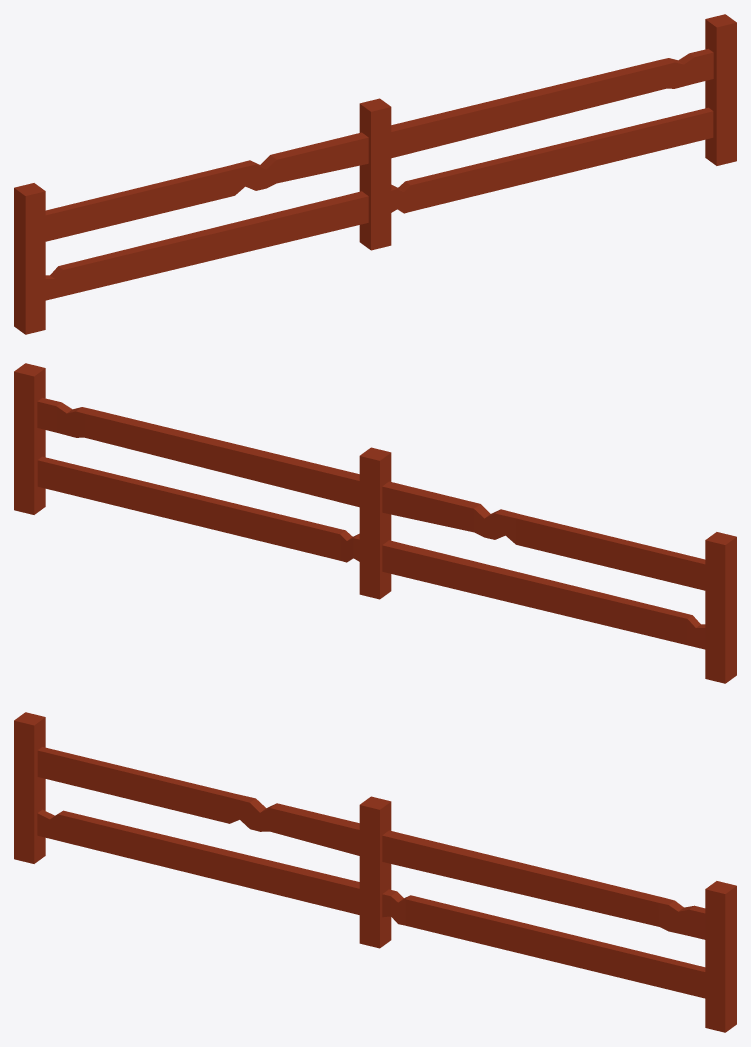
File: fence.glb
3 views of the same model, one above another, from view 1: azimuth 30°, elevation 25°; view 2: azimuth 150°, elevation 25°; view 3: azimuth 330°, elevation 25° (orthographic).
Parts seen in each view (by area): view 1: Fence; view 2: Fence; view 3: Fence.
Boxes of the visible parts, x1,y1,x2,y2 form: Fence: [14, 14, 736, 334]; Fence: [14, 363, 736, 683]; Fence: [14, 712, 736, 1032].
Bounding box in the file's own units: 589 × 110 × 16.55.
